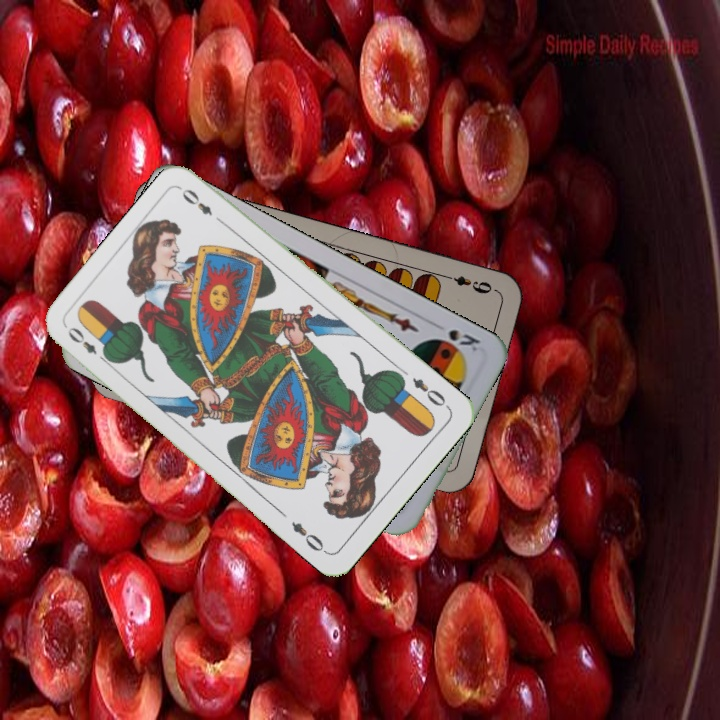E9: (440, 270, 498, 297)
EO: (63, 322, 112, 367), (408, 373, 448, 409)
SK: (444, 325, 483, 354)
